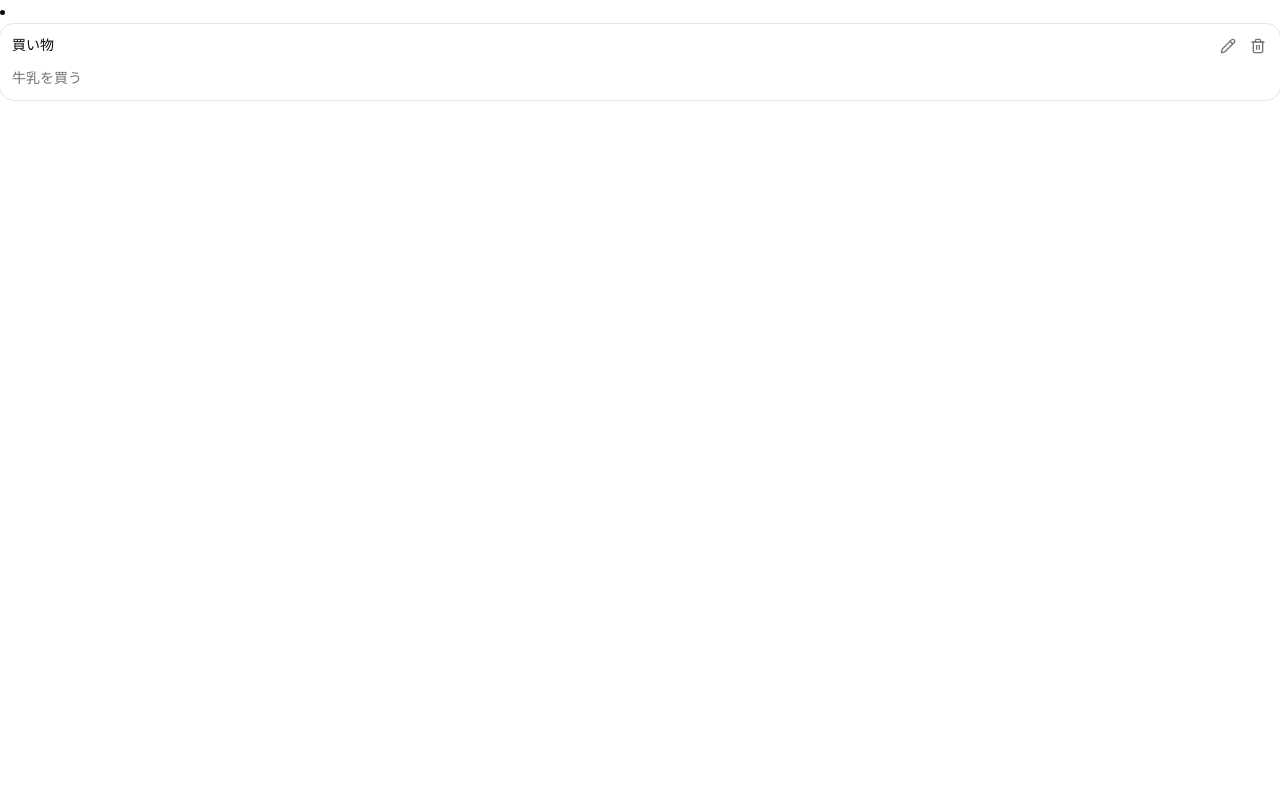
Test case: TaskCard 削除 › 確認ダイアログで削除すると、id 付きで削除が送信されダイアログが閉じる
What coordinates should you click on to do the following:
click the button named "「買い物」を削除"
I would click on:
 (1258, 46)
Its box is left=1244, top=32, right=1272, bottom=60.
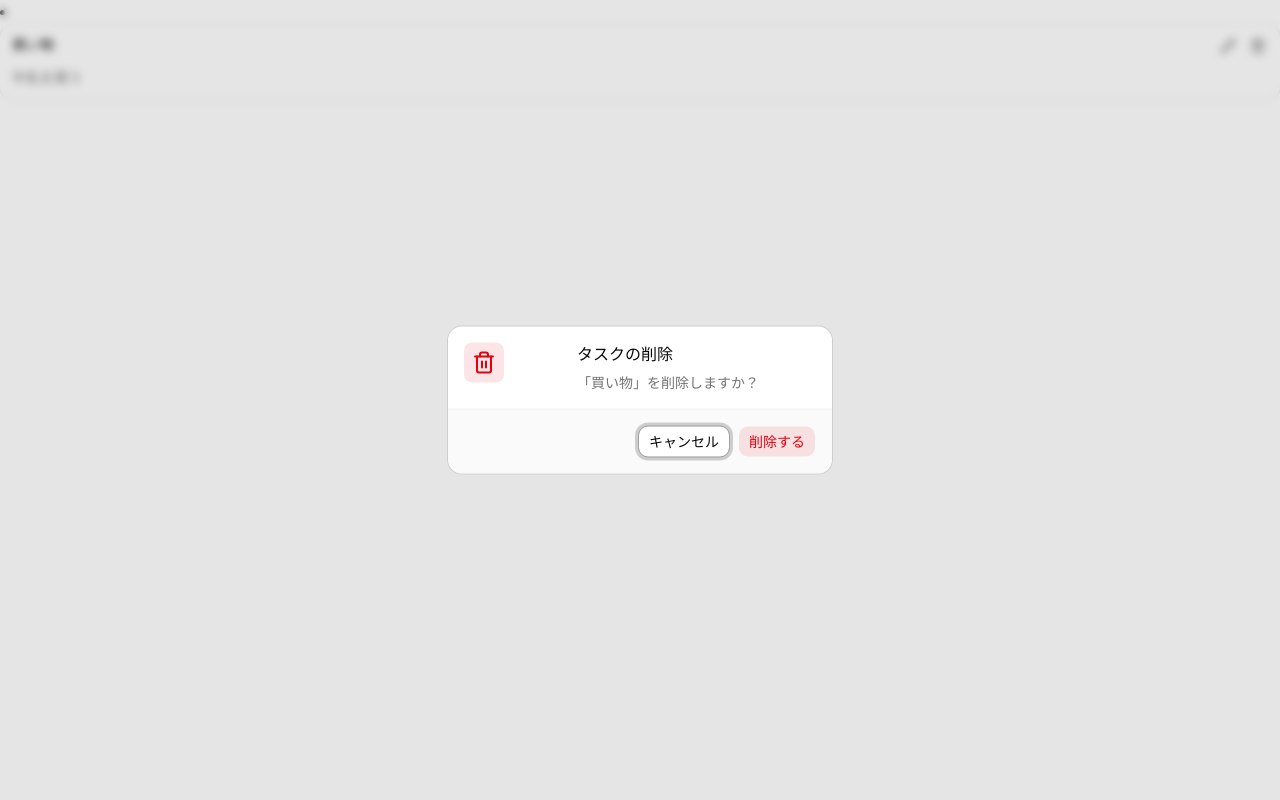
What coordinates should you click on to do the following:
click the button "削除する"
I would click on:
 (777, 442)
Its box is left=738, top=426, right=816, bottom=458.
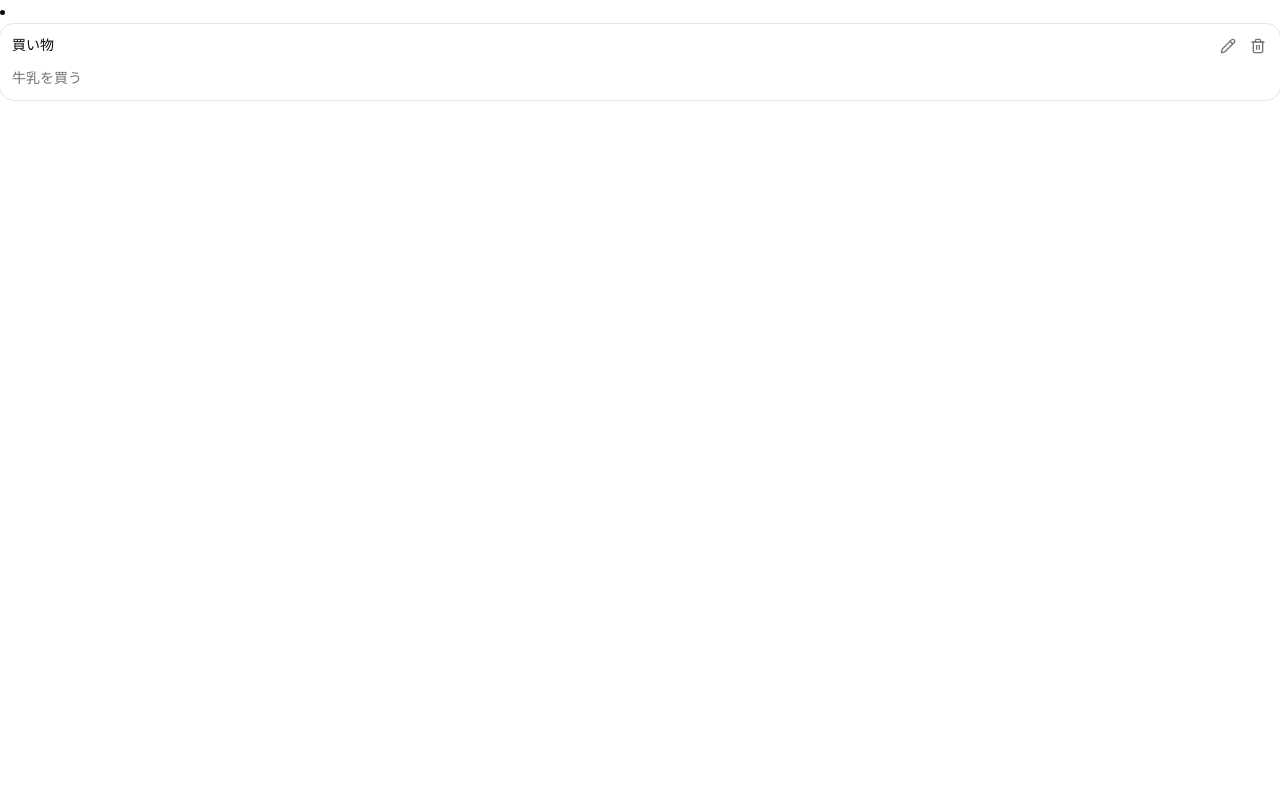
Result: the dialog is gone
